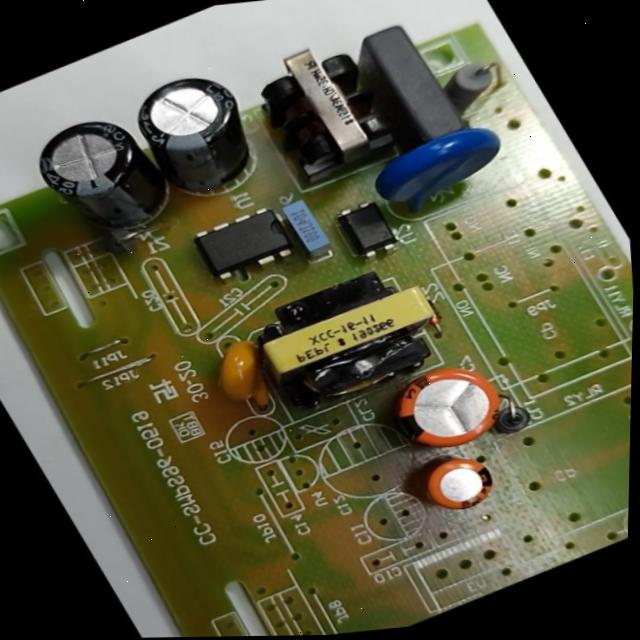Cap1: (361, 340, 530, 476)
Cap2: (395, 437, 518, 534)
Cap3: (110, 54, 288, 219)
Cap4: (5, 95, 202, 267)
MOSFET: (175, 195, 315, 298)
Mov: (349, 110, 531, 237)
Resistor: (429, 48, 526, 125)
Transformer: (224, 247, 472, 428), (230, 24, 420, 199)
